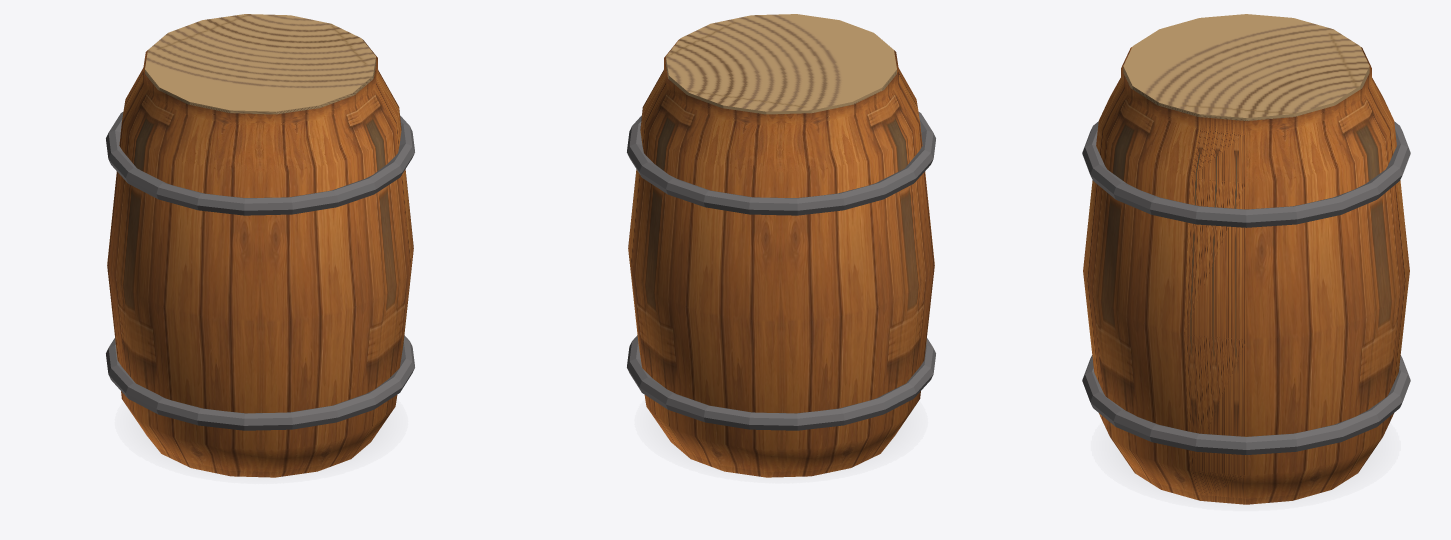
File: barrel.glb
The picture shows the model from 3 angles, left to right: view 1: azimuth 30°, elevation 25°; view 2: azimuth 150°, elevation 25°; view 3: azimuth 270°, elevation 25°; orthographic projection. The views are drawn at different scales.
Visible parts, largest first — view 1: body, top, band, band.001; view 2: body, top, band, band.001; view 3: body, top, band, band.001.
Part boxes in pixels (bbox=[...]): body: bbox=[107, 39, 413, 477]; top: bbox=[145, 14, 375, 114]; band: bbox=[106, 111, 414, 215]; band.001: bbox=[106, 335, 414, 430]; body: bbox=[628, 39, 934, 477]; top: bbox=[666, 14, 896, 114]; band: bbox=[627, 111, 935, 215]; band.001: bbox=[627, 335, 935, 430]; body: bbox=[1083, 47, 1409, 504]; top: bbox=[1123, 14, 1369, 120]; band: bbox=[1082, 121, 1410, 227]; band.001: bbox=[1082, 355, 1410, 454].
Bounding box in the file's own units: 0.85 × 0.955 × 0.85.
Materials: 4 (3 with a texture image).
